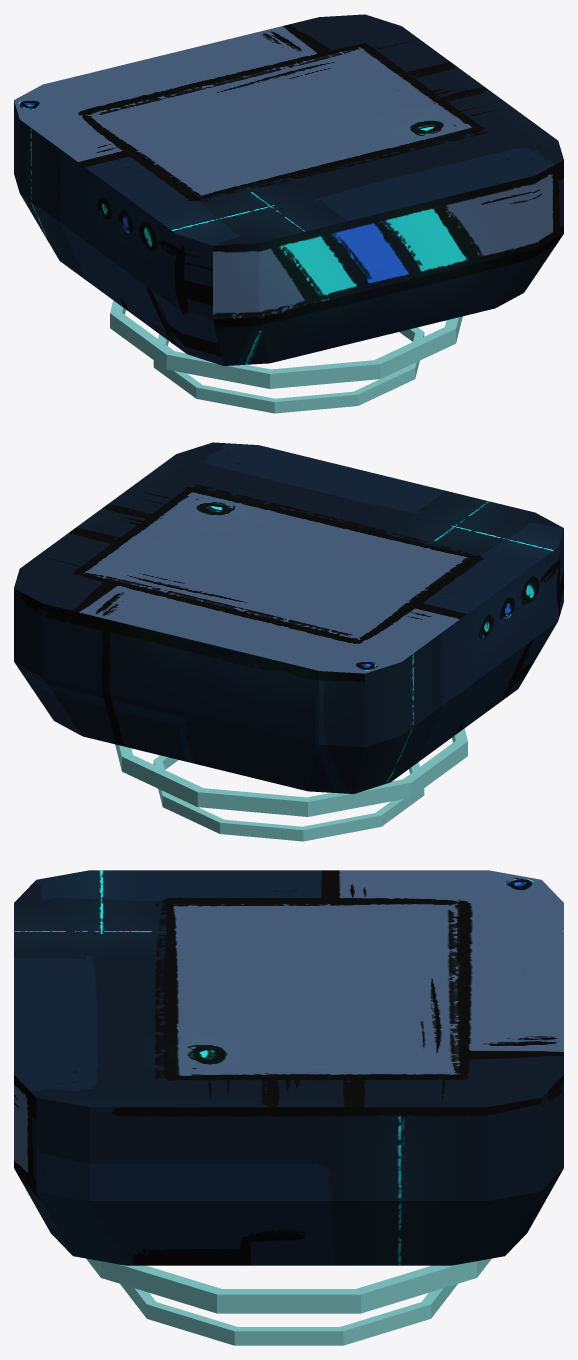
The model's file is сайфай платформа1.fbx.
3 renders of one model, top to bottom at view 1: azimuth 30°, elevation 25°; view 2: azimuth 150°, elevation 25°; view 3: azimuth 270°, elevation 25°, orthographic. The views are drawn at different scales.
Visible parts, largest first — view 1: платформа, Cylinder, Cylinder.001; view 2: платформа, Cylinder, Cylinder.001; view 3: платформа, Cylinder, Cylinder.001.
Part boxes in pixels (x1,y1,x2,y2): платформа: [14, 14, 563, 365]; Cylinder: [110, 300, 462, 388]; Cylinder.001: [153, 327, 424, 413]; платформа: [14, 442, 563, 793]; Cylinder: [115, 728, 467, 816]; Cylinder.001: [153, 755, 424, 841]; платформа: [14, 870, 563, 1265]; Cylinder: [86, 1258, 491, 1313]; Cylinder.001: [120, 1284, 457, 1345].
Bounding box in the file's own units: 1184 × 668 × 1162.
